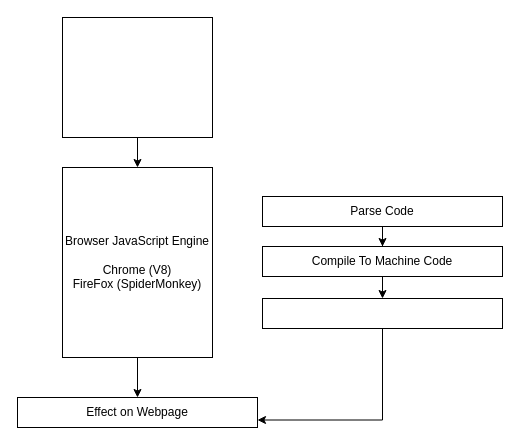
This 520x446 diagram has some shape labels left out. Each missing label, with the centre of its shape:
"Execute Machine Code (Single Thread)" goes at point (382, 313).
"JavaScript Code" goes at point (137, 77).
